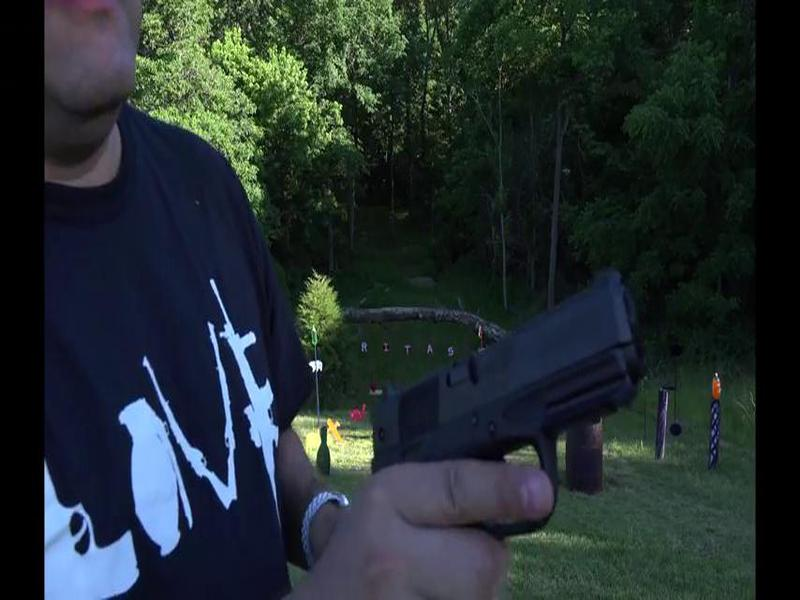Pistola: (362, 267, 654, 537)
